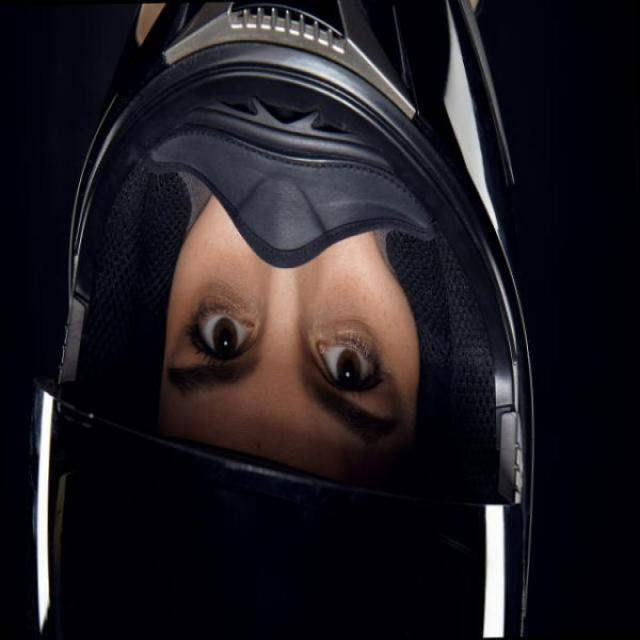Helmet: (90, 9, 520, 636)
